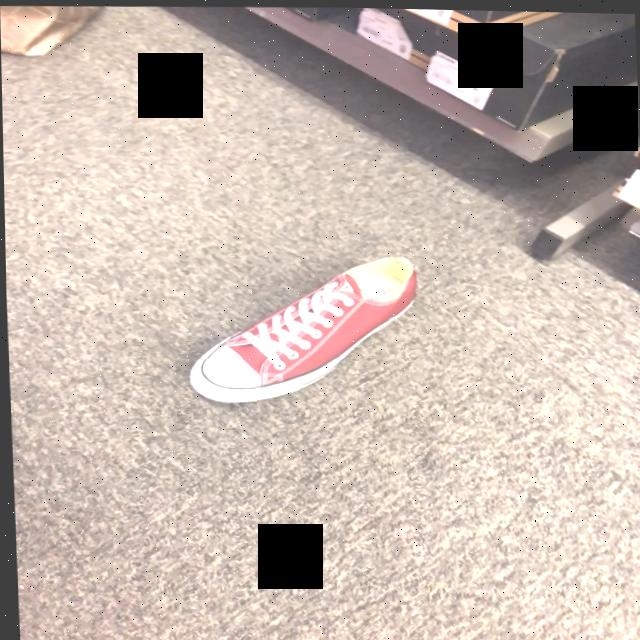shoe: (187, 256, 417, 405)
